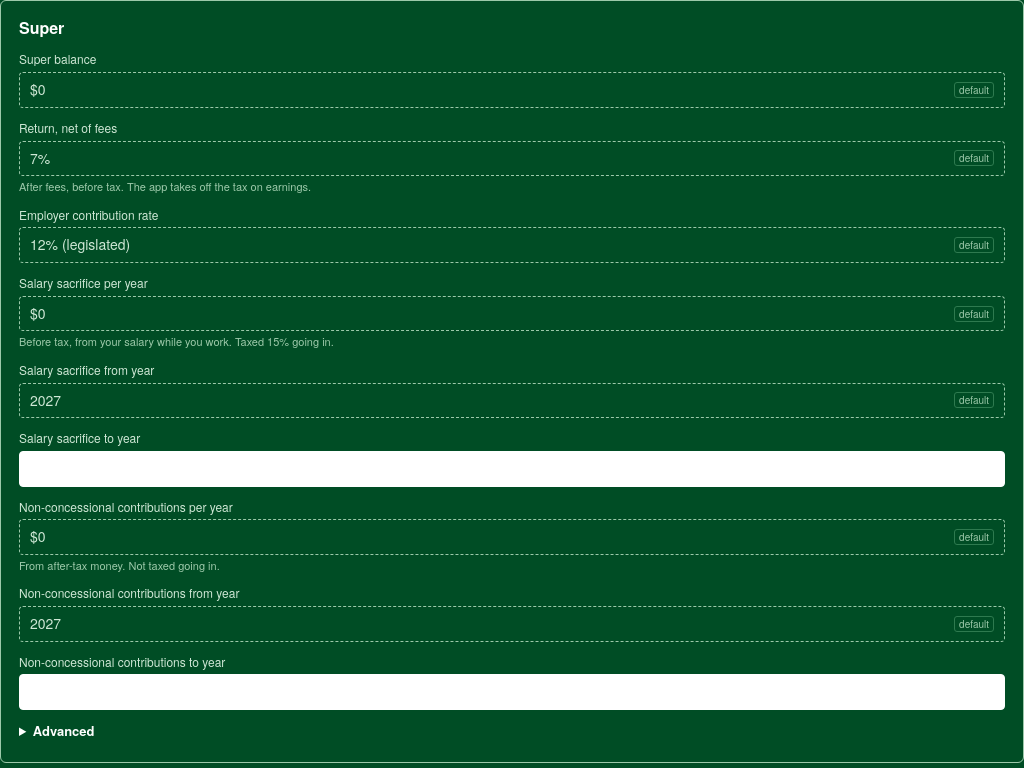
Test case: SuperSection fields › stores Employer contribution rate as a fraction and restores the default
Type "11.5" into the field labelled "Employer contribution rate" at (489, 245), box [30,235,948,255]
Then press Enter
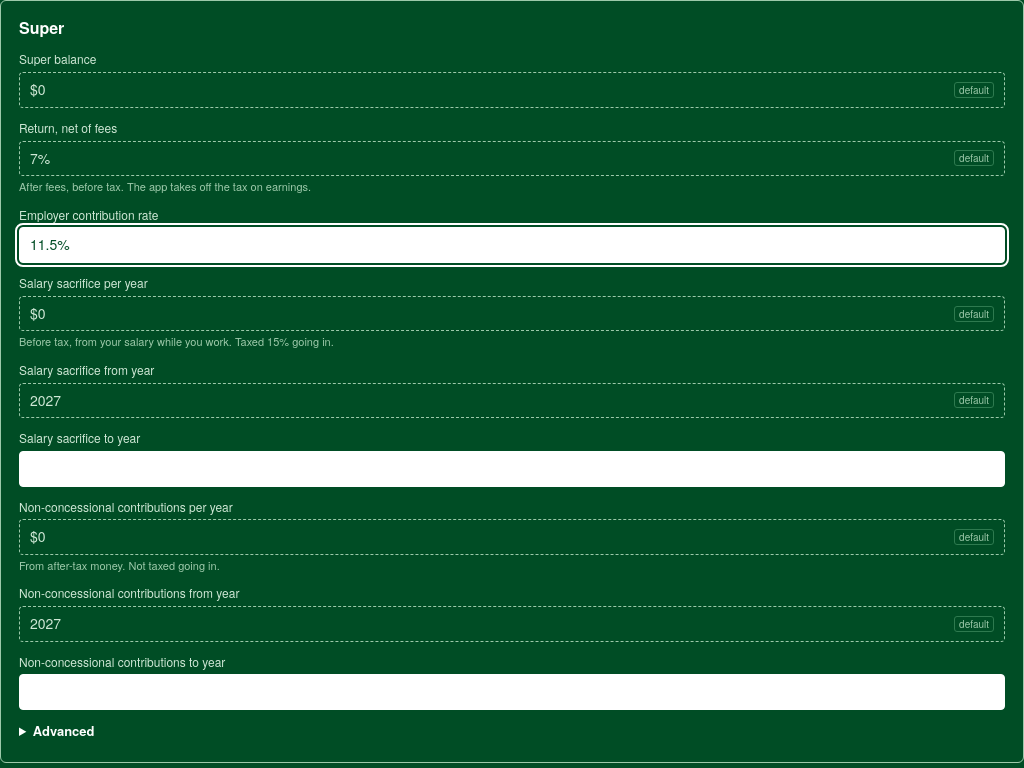
Clear the field labelled "Employer contribution rate" at (512, 245), box [30,235,994,255]
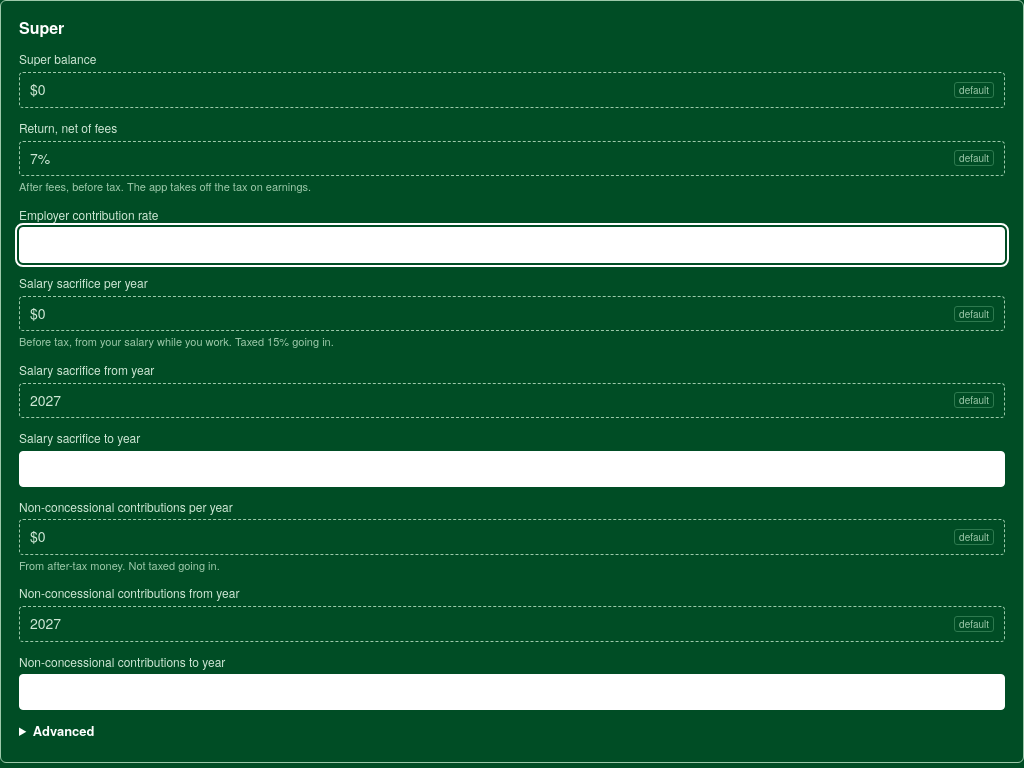
Press Tab
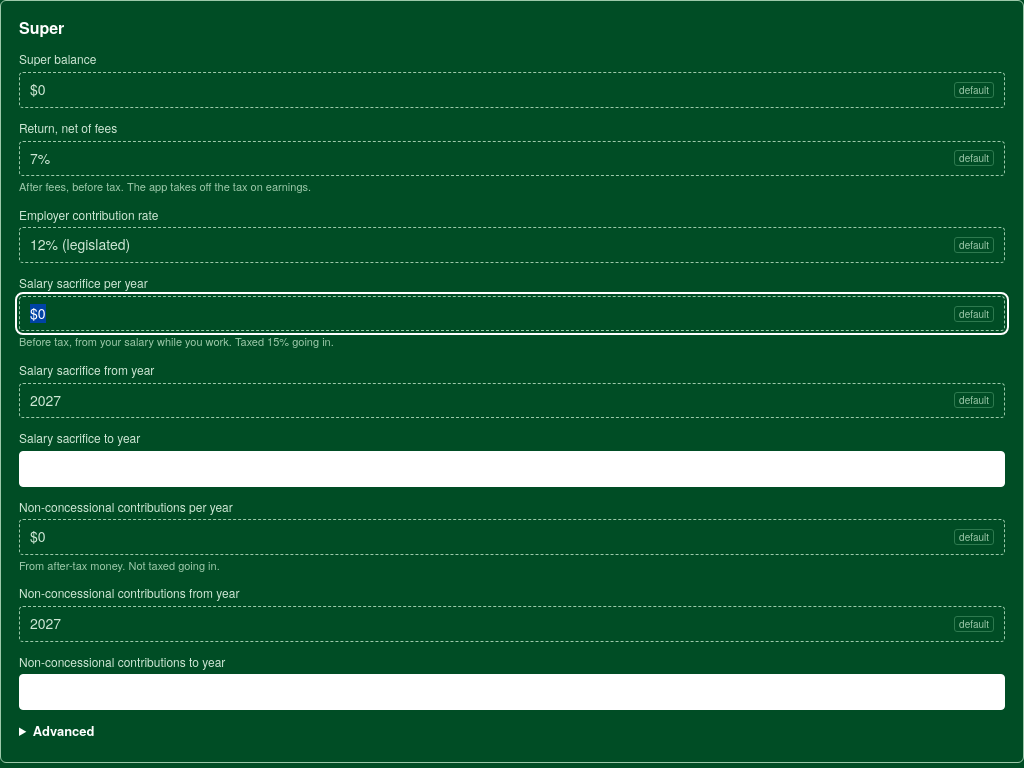
Now the field labelled "Employer contribution rate" holds "12% (legislated)", box [30,235,948,255]
